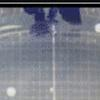white: (6, 86, 16, 97), (93, 22, 100, 36), (49, 88, 54, 94)
